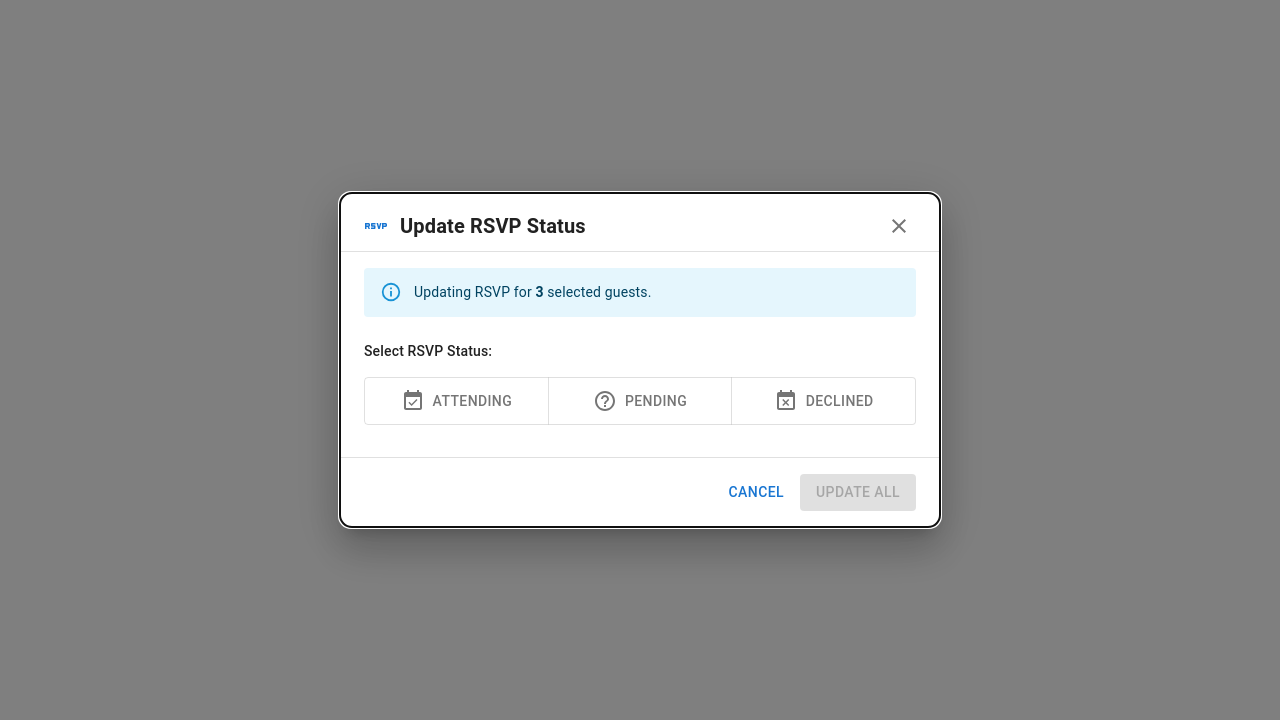
Test: BulkRsvpModal › "Update All" button disabled until RSVP status selected
Expected: the button "Update All" is disabled, [800,474,916,510]
Click the button "Attending" at {"x": 456, "y": 401}, box [364,376,549,425]
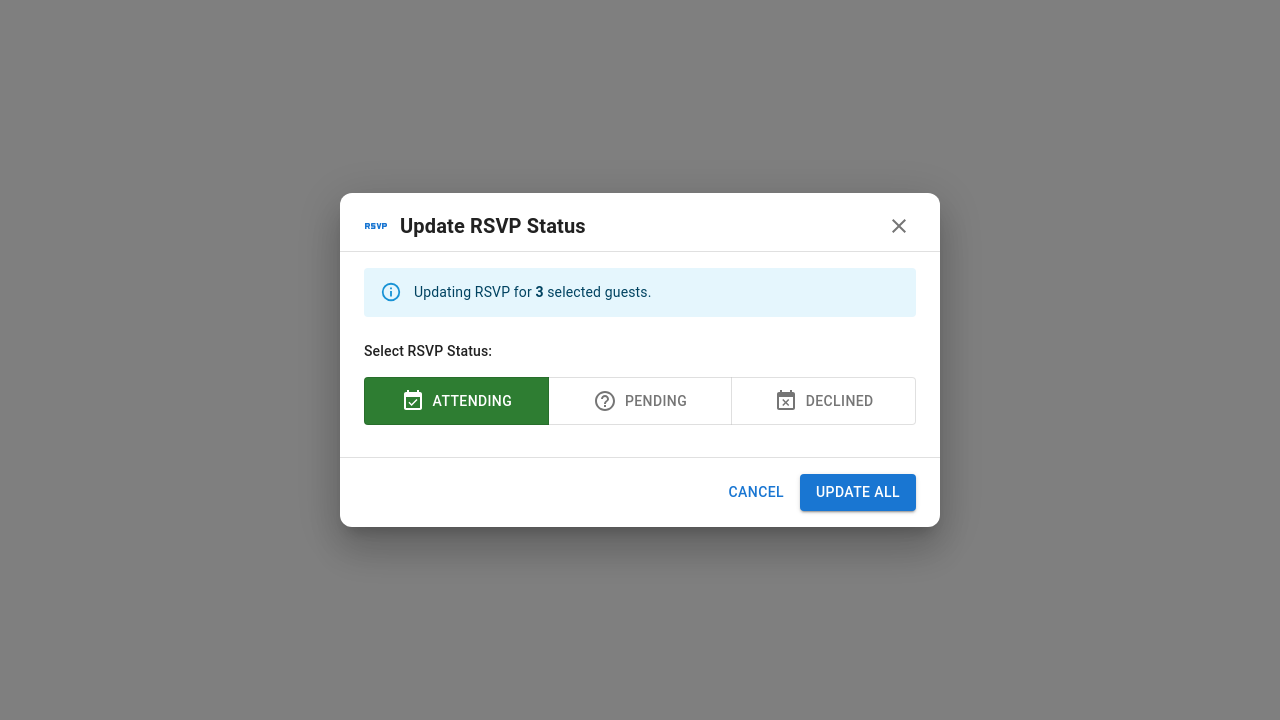
Expected: the button "Update All" is enabled, [800,474,916,510]
